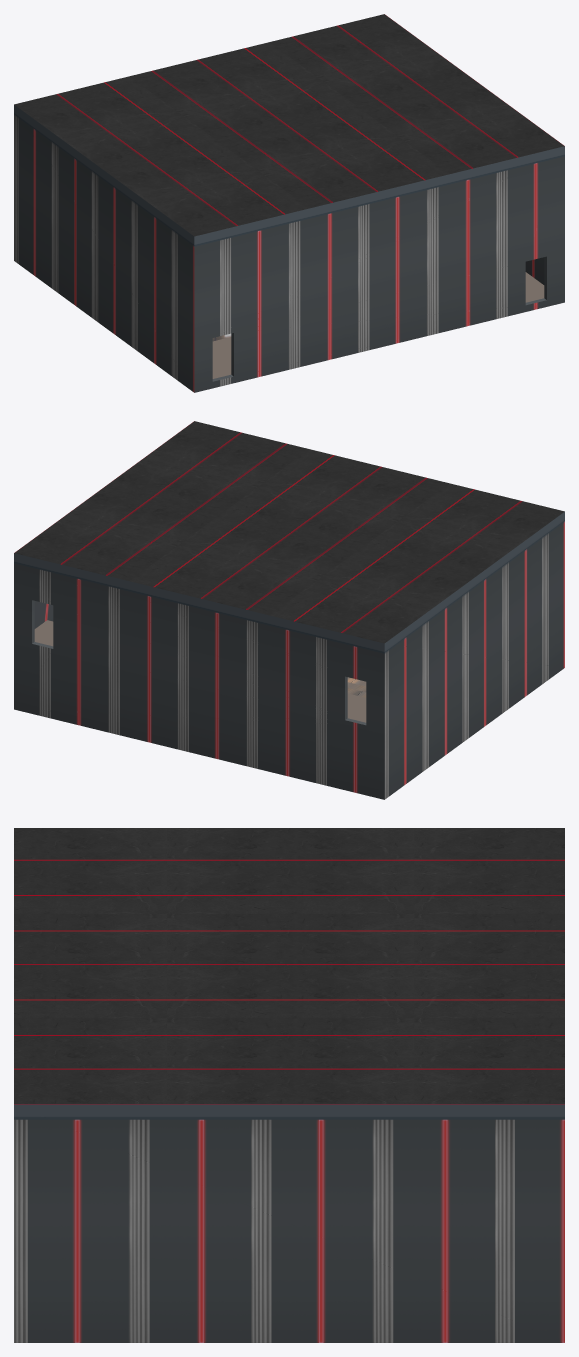
The model's file is CinemaHall03.FBX.
The picture shows the model from 3 angles, top to bottom: view 1: azimuth 30°, elevation 25°; view 2: azimuth 150°, elevation 25°; view 3: azimuth 270°, elevation 25°; orthographic projection. The views are drawn at different scales.
Parts seen in each view (by area): view 1: Cinema03Wall, Cinema03FloorLight; view 2: Cinema03Wall, Cinema03FloorLight; view 3: Cinema03Wall.
Part boxes in pixels (left/top/right/bottom): Cinema03Wall: left=14, top=14, right=564, bottom=392; Cinema03FloorLight: left=212, top=272, right=544, bottom=378; Cinema03Wall: left=14, top=421, right=564, bottom=799; Cinema03FloorLight: left=34, top=620, right=366, bottom=722; Cinema03Wall: left=14, top=828, right=564, bottom=1342.
Size of the model in its own units: 1953 by 787 by 1647.
